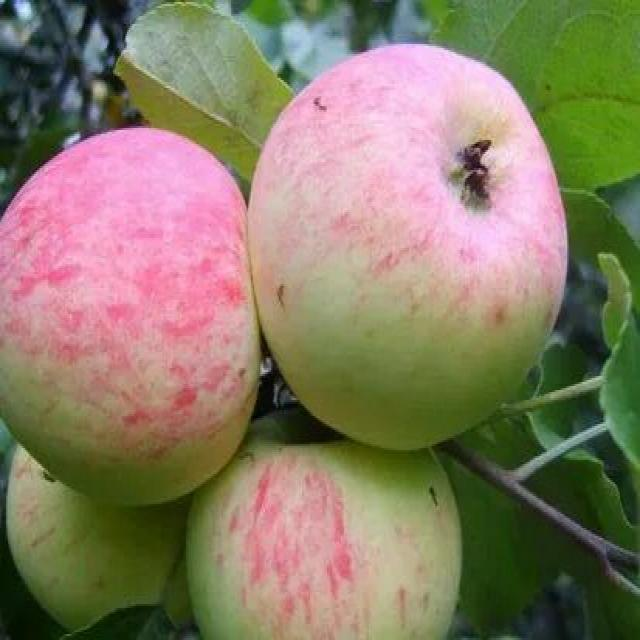Fresh Apple: (248, 34, 565, 457), (0, 123, 261, 522), (175, 416, 466, 640)
